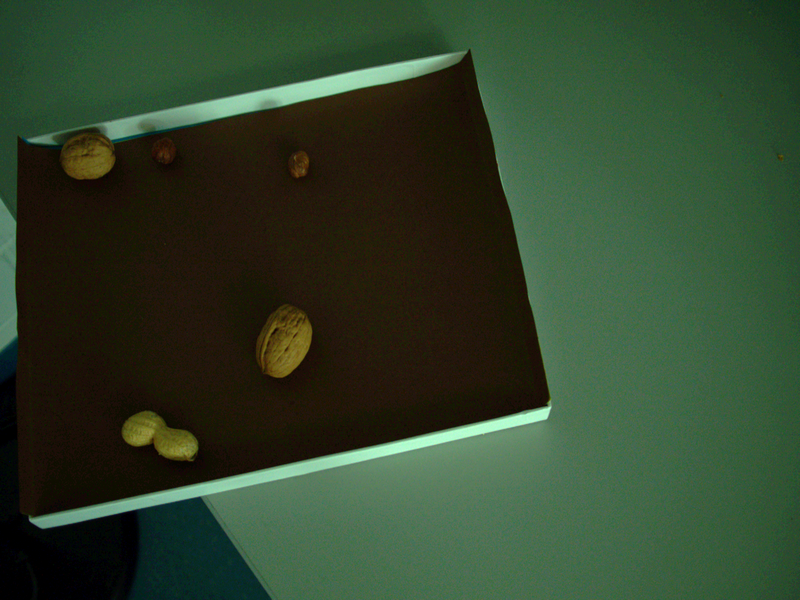walnut: (248, 292, 322, 388), (55, 128, 120, 181)
